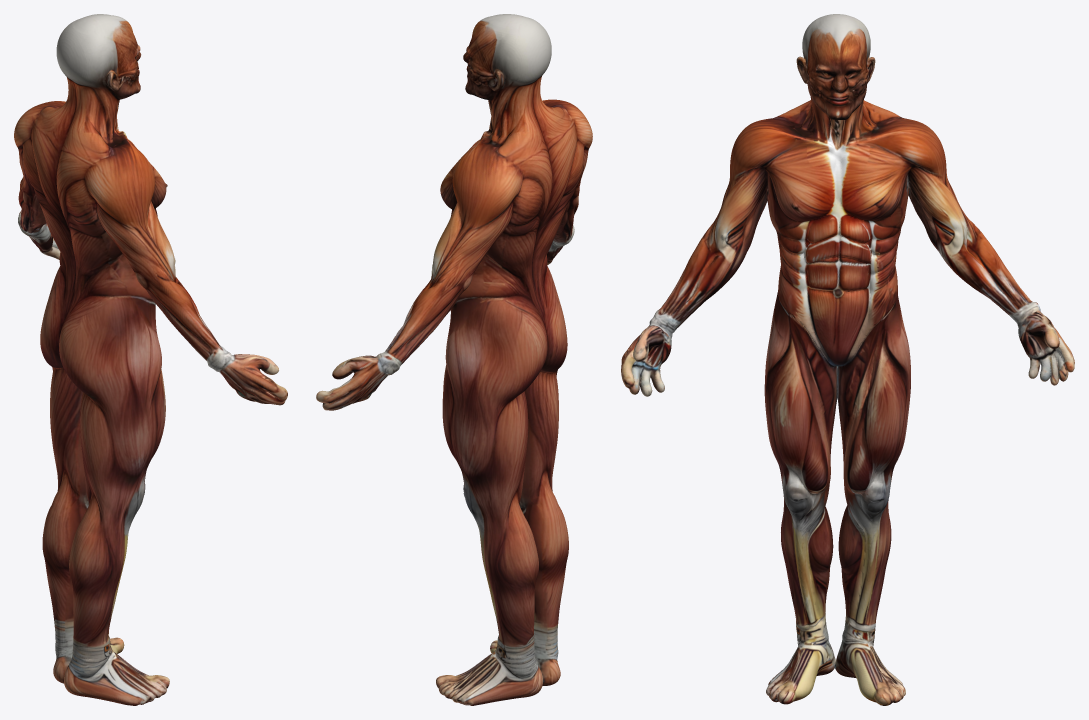
File: HumanAnatomyModel1.glb
3 views of the same model, side by side, from view 1: azimuth 30°, elevation 25°; view 2: azimuth 150°, elevation 25°; view 3: azimuth 270°, elevation 25° (orthographic).
Visible parts, largest first — view 1: tripo_node_c26bcdae-0058-4a42-b227-5f04504bfbb1; view 2: tripo_node_c26bcdae-0058-4a42-b227-5f04504bfbb1; view 3: tripo_node_c26bcdae-0058-4a42-b227-5f04504bfbb1.
Boxes of the visible parts, x1,y1,x2,y2 form: tripo_node_c26bcdae-0058-4a42-b227-5f04504bfbb1: [14, 14, 287, 705]; tripo_node_c26bcdae-0058-4a42-b227-5f04504bfbb1: [316, 14, 592, 705]; tripo_node_c26bcdae-0058-4a42-b227-5f04504bfbb1: [621, 14, 1074, 705].
Size of the model in its own units: 0.2115 by 1 by 0.6121.
1 material, 1 textured.
